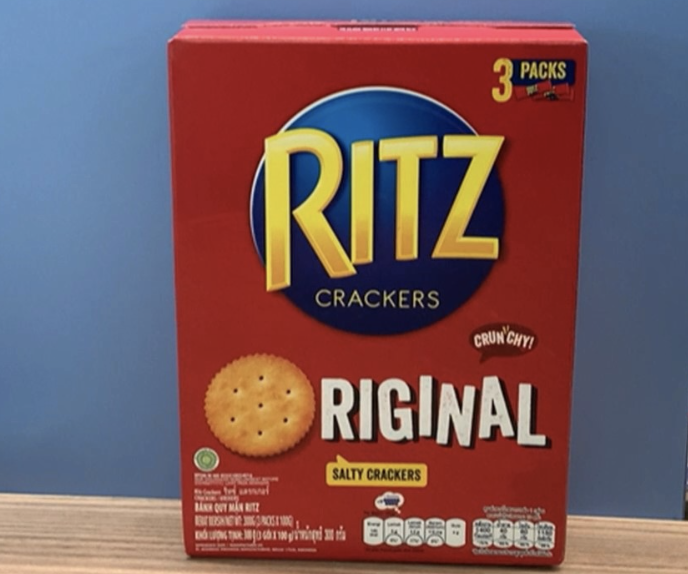crackers_150g: (189, 57, 567, 560)
